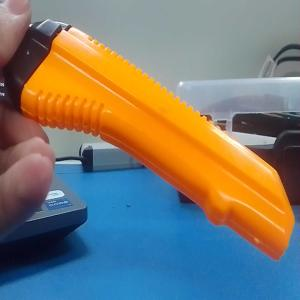estilete: (0, 17, 297, 264)
